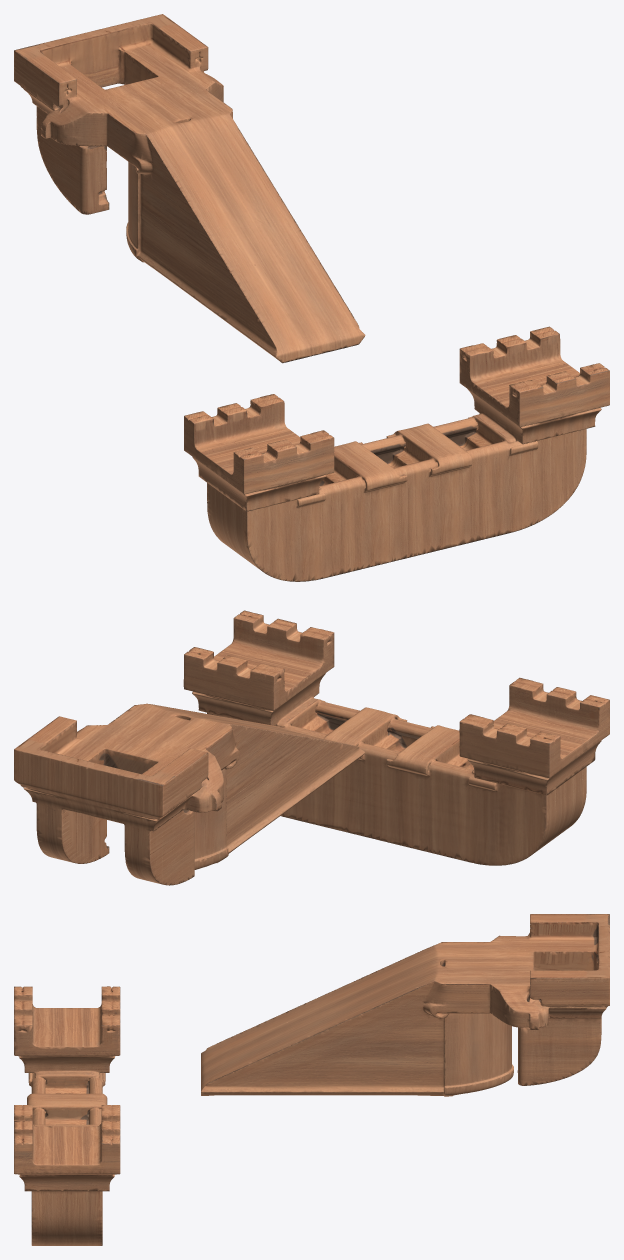
Rendered from 4瓜子栱与散斗、丁头栱（充当鞾楔作用）与散斗.glb.
3 renders of one model, top to bottom at view 1: azimuth 30°, elevation 25°; view 2: azimuth 150°, elevation 25°; view 3: azimuth 270°, elevation 25°, orthographic. The views are drawn at different scales.
Bounding box in the file's own units: 1.19 × 0.8774 × 1.9.
1 material, 1 textured.
